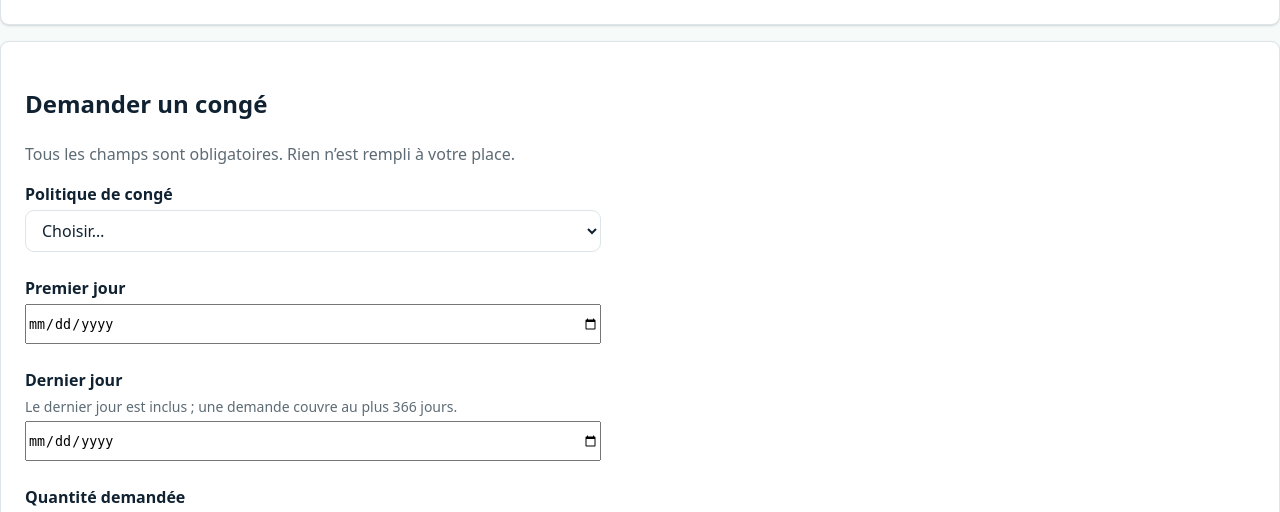
Test: MVP-041A my leave (fr) › shows the policy unavailable state with its stable message
(page scrolled)
Step 1. Select "Congé annuel (ANNUAL)" in the dropdown labelled "Politique de congé" → (313,231), box [25,210,601,252]
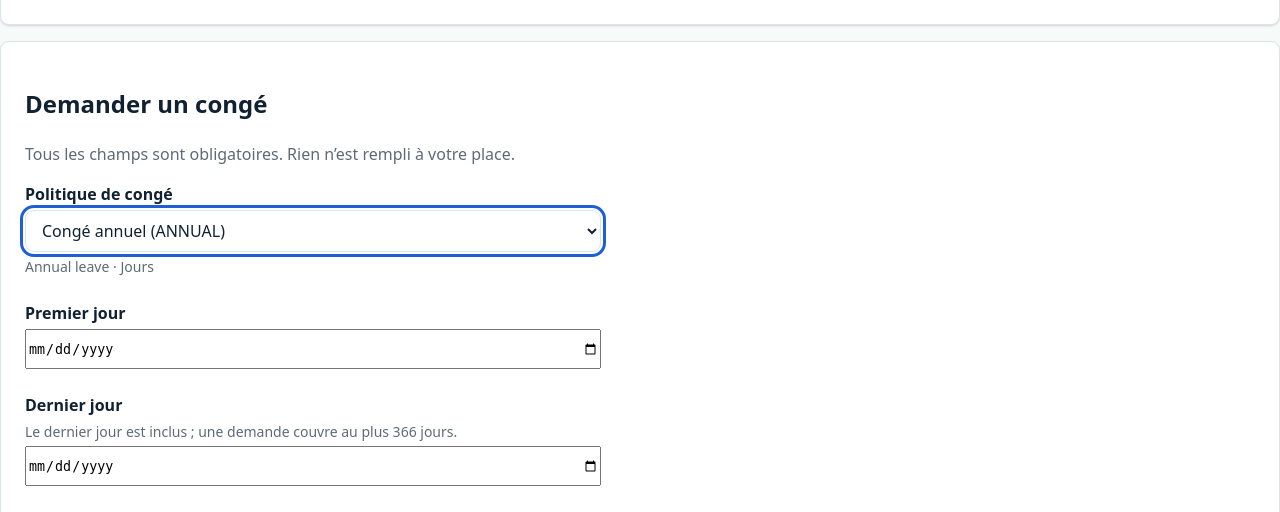
Step 2. Type "2026-10-20" into the date field labelled "Premier jour" → (313,349), box [25,329,601,369]
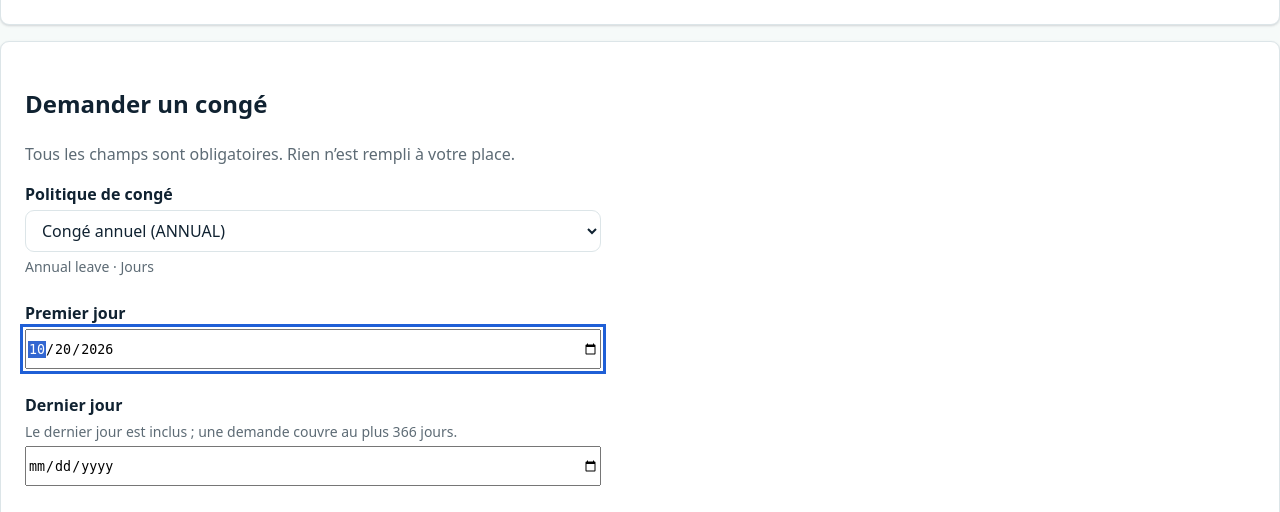
Step 3. Type "2026-10-22" into the date field labelled "Dernier jour" → (313,466), box [25,446,601,486]
(page scrolled)
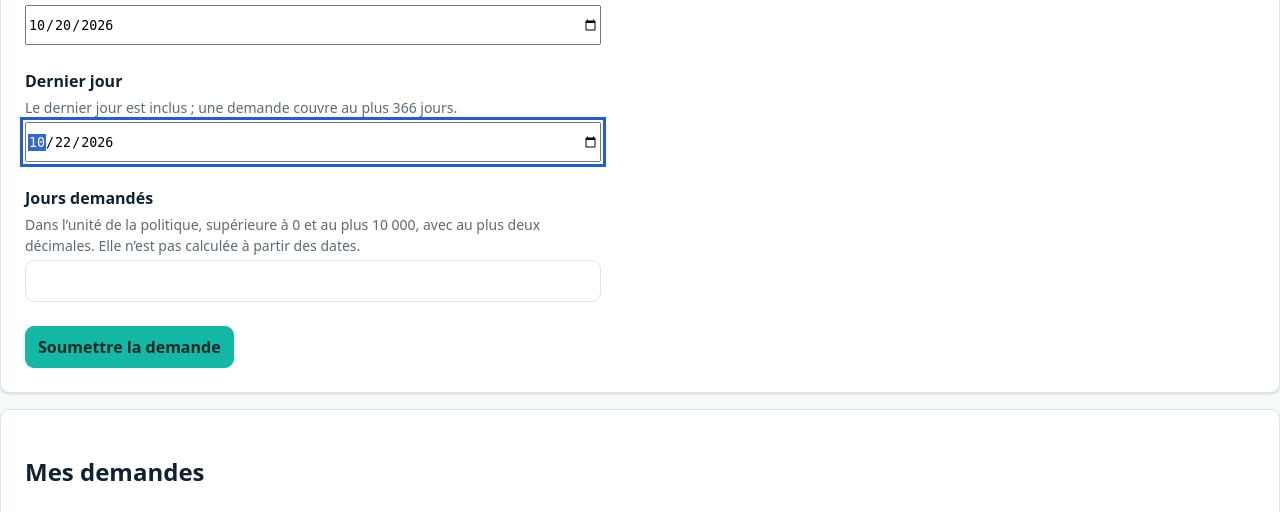
Step 4. Type "2,5" into the field → (313,281), box [25,260,601,302]
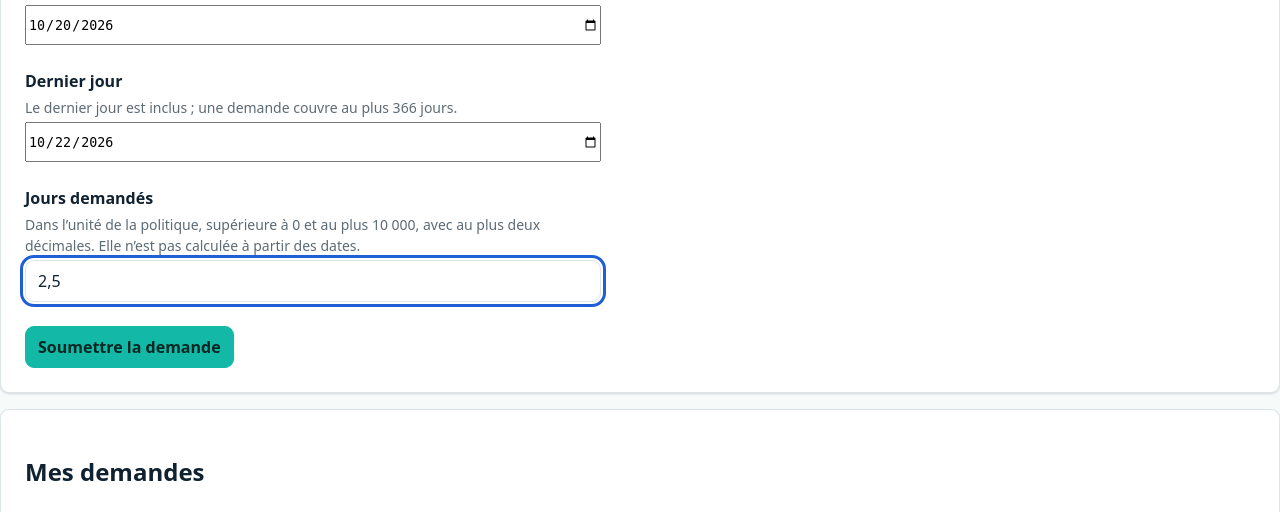
Step 5. Click the button "Soumettre la demande" → (129,347), box [25,326,234,368]
(page scrolled)
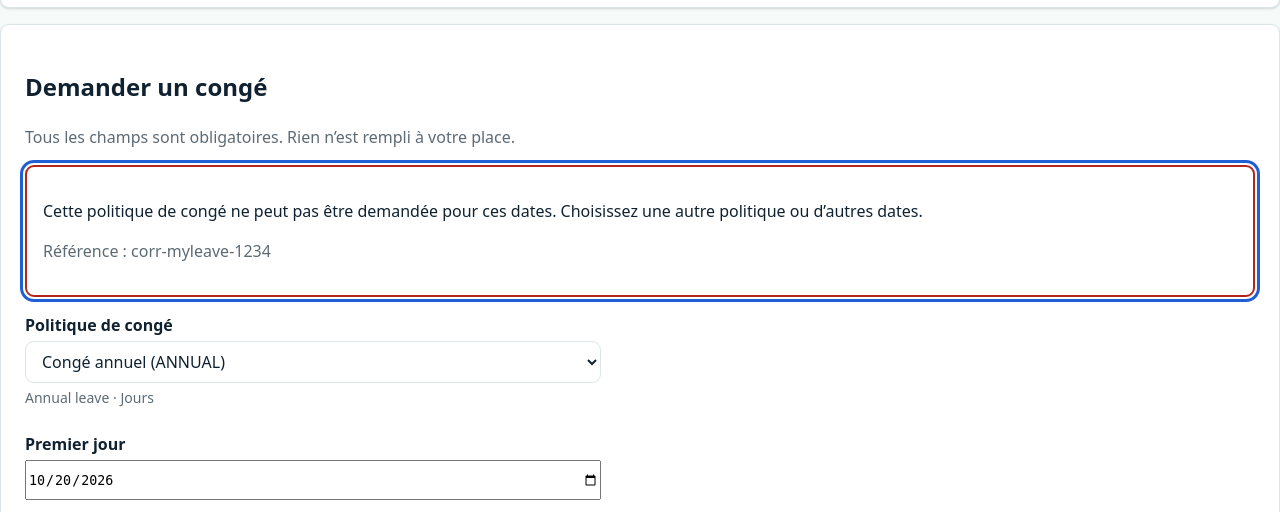
Check: the message with test id "request-error" does not show "<b>", box [25,165,1255,297]
Check: the message with test id "request-error" shows "Cette politique de congé ne peut pas être demandée pour ces dates. Choisissez une autre politique ou d’autres dates.", box [43,200,923,222]
Check: the message with test id "request-error" shows "corr-myleave-1234", box [43,240,271,262]
